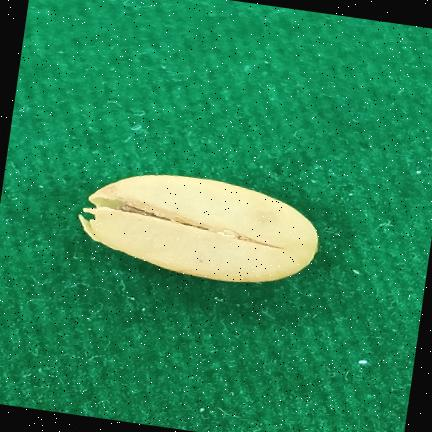parchment: (78, 175, 318, 282)
